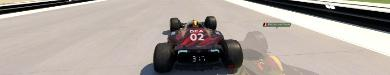Car: (152, 15, 243, 72)
Solid White and black: (259, 18, 293, 30), (262, 21, 291, 27)
curve: (0, 0, 389, 74)
